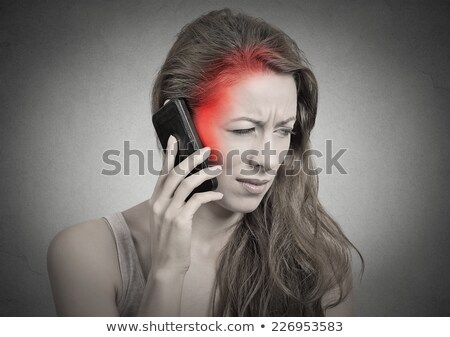phone: (147, 105, 218, 207)
talk: (142, 92, 300, 250)
